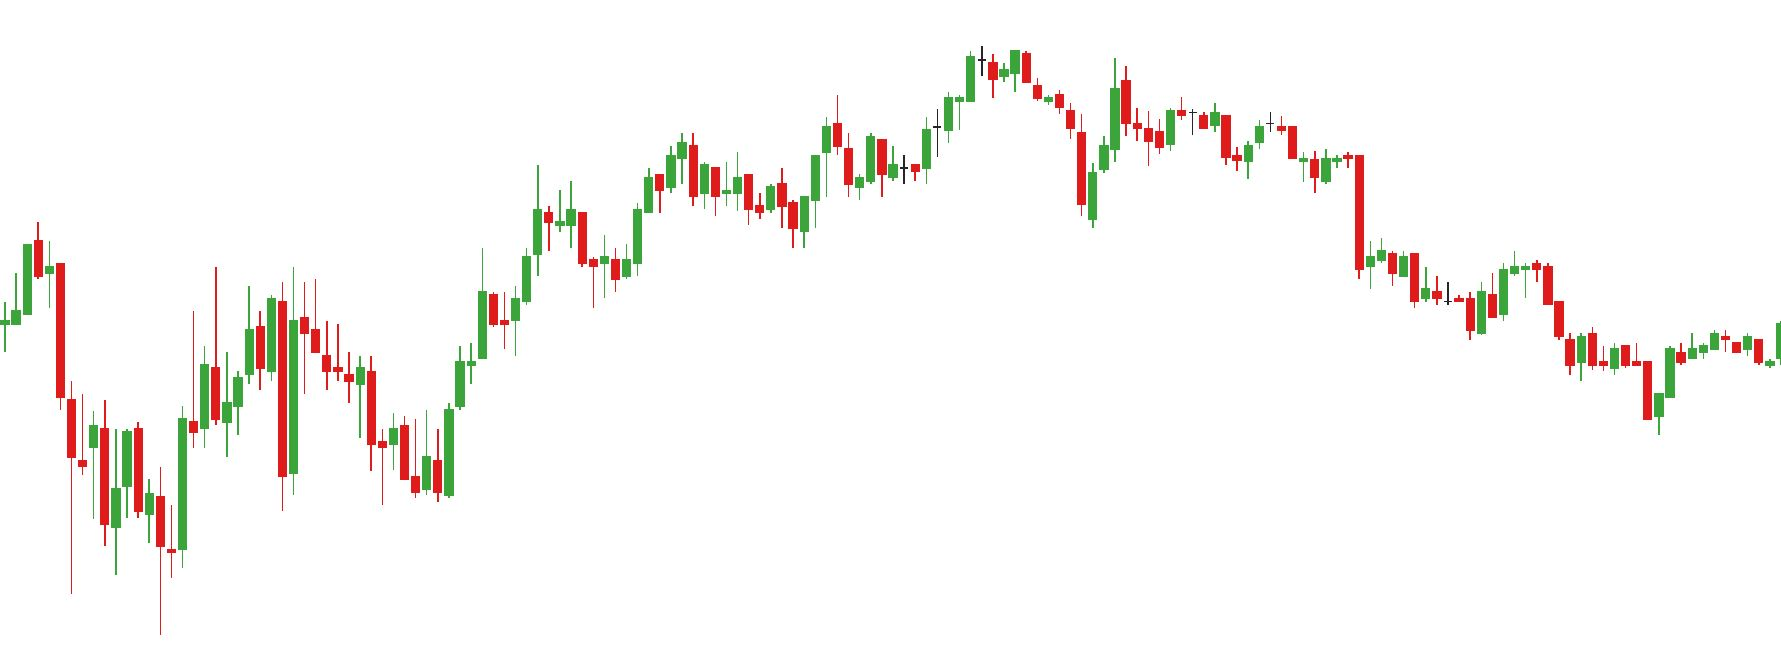buy: (65, 448, 169, 643), (530, 232, 610, 319)
